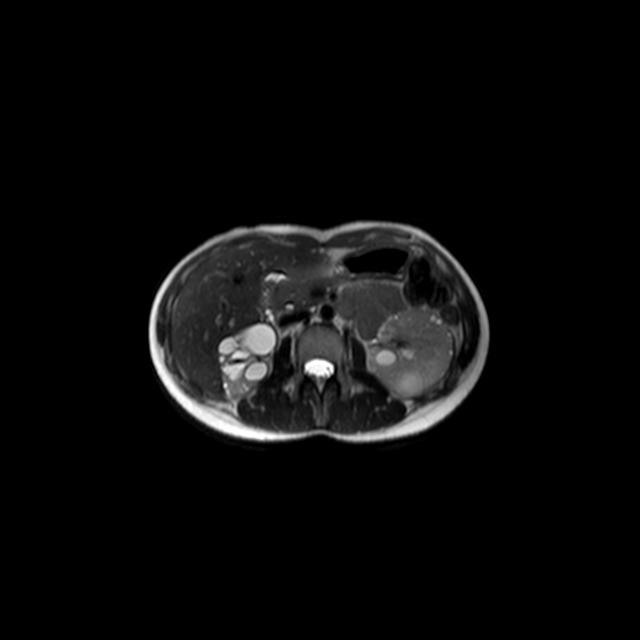sag: (216, 322, 279, 400)
sol: (365, 305, 454, 401)
